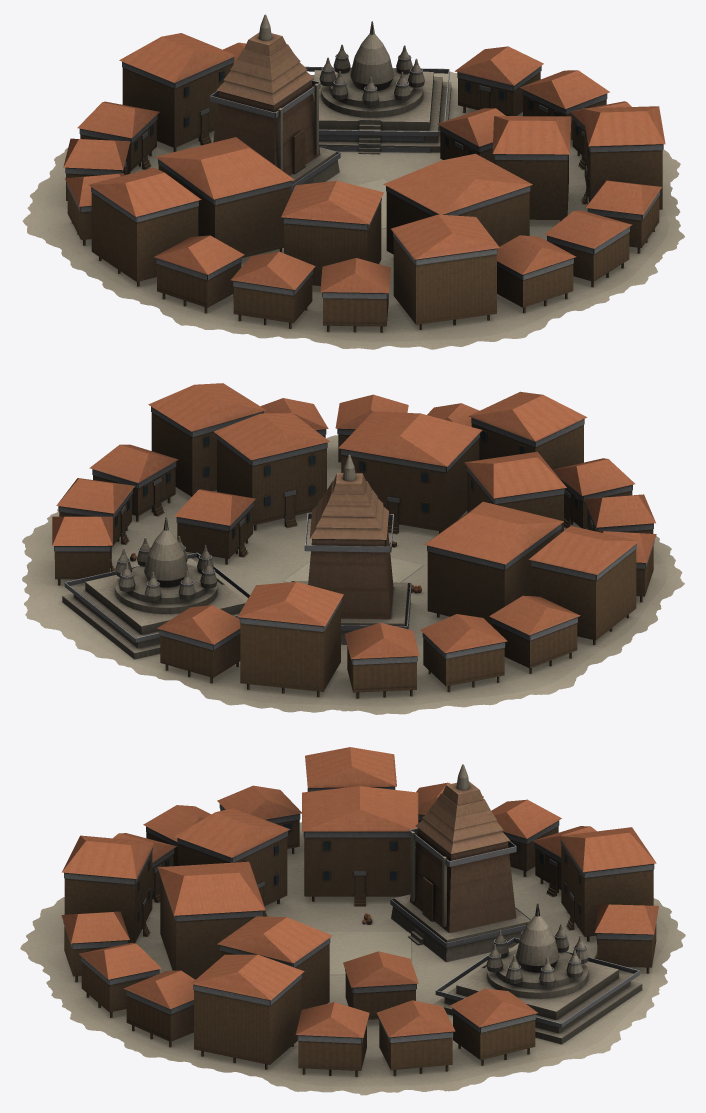
Rendered from classical-town-big-a-monsoon.glb.
3 renders of one model, top to bottom at view 1: azimuth 30°, elevation 25°; view 2: azimuth 150°, elevation 25°; view 3: azimuth 270°, elevation 25°, orthographic.
Parts seen in each view (by area): view 1: LOD0; view 2: LOD0; view 3: LOD0.
Boxes of the visible parts, <box> form: LOD0: <box>22,14,684,349</box>; LOD0: <box>22,383,684,714</box>; LOD0: <box>20,747,685,1095</box>.
Size of what is drawn, in the model's own units: 7.88 by 2.2 by 8.04.
3 materials, 3 textured.
